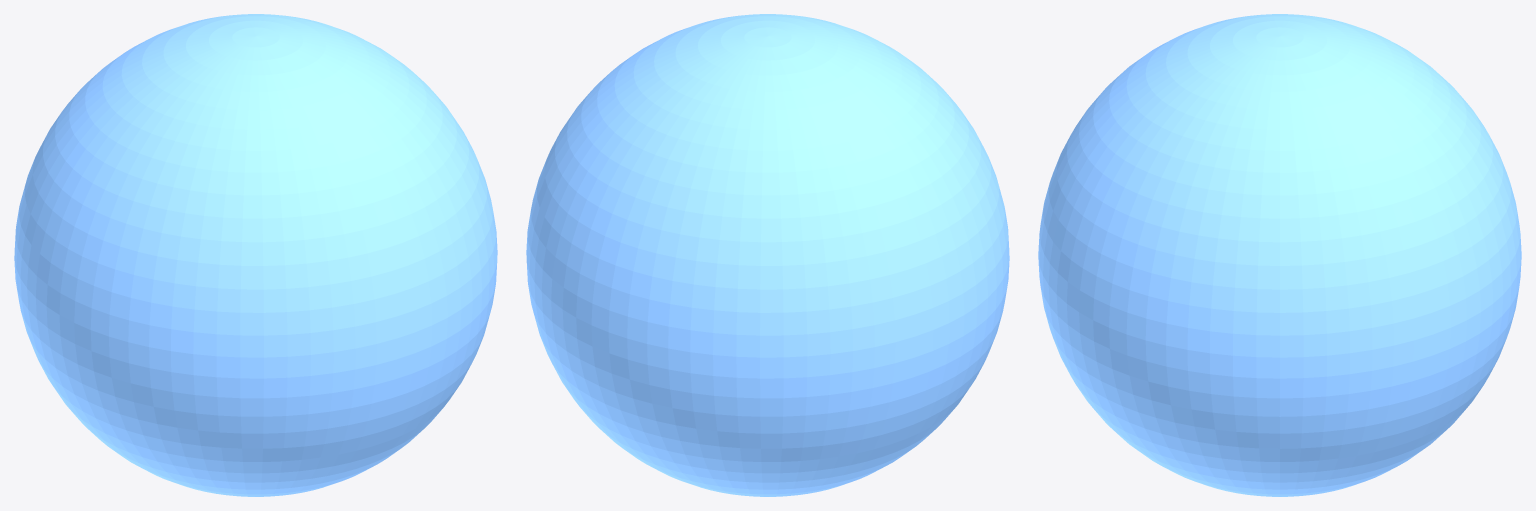
File: racing-environment.glb
3 renders of one model, left to right at view 1: azimuth 30°, elevation 25°; view 2: azimuth 150°, elevation 25°; view 3: azimuth 270°, elevation 25°, orthographic.
Visible parts, largest first — view 1: sky-dome; view 2: sky-dome; view 3: sky-dome.
Boxes of the visible parts, x1,y1,x2,y2 form: sky-dome: [14, 14, 497, 496]; sky-dome: [526, 14, 1009, 496]; sky-dome: [1038, 14, 1521, 496].
Size of the model in its own units: 9200 by 9200 by 9200.
